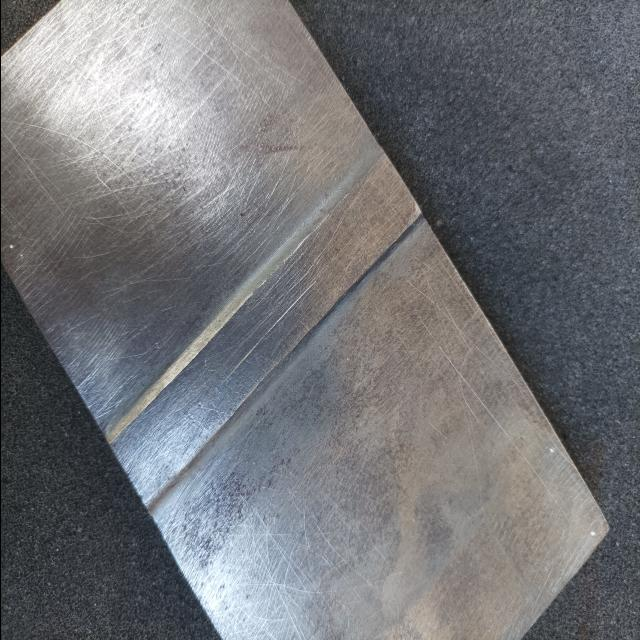defect: (218, 279, 317, 389)
